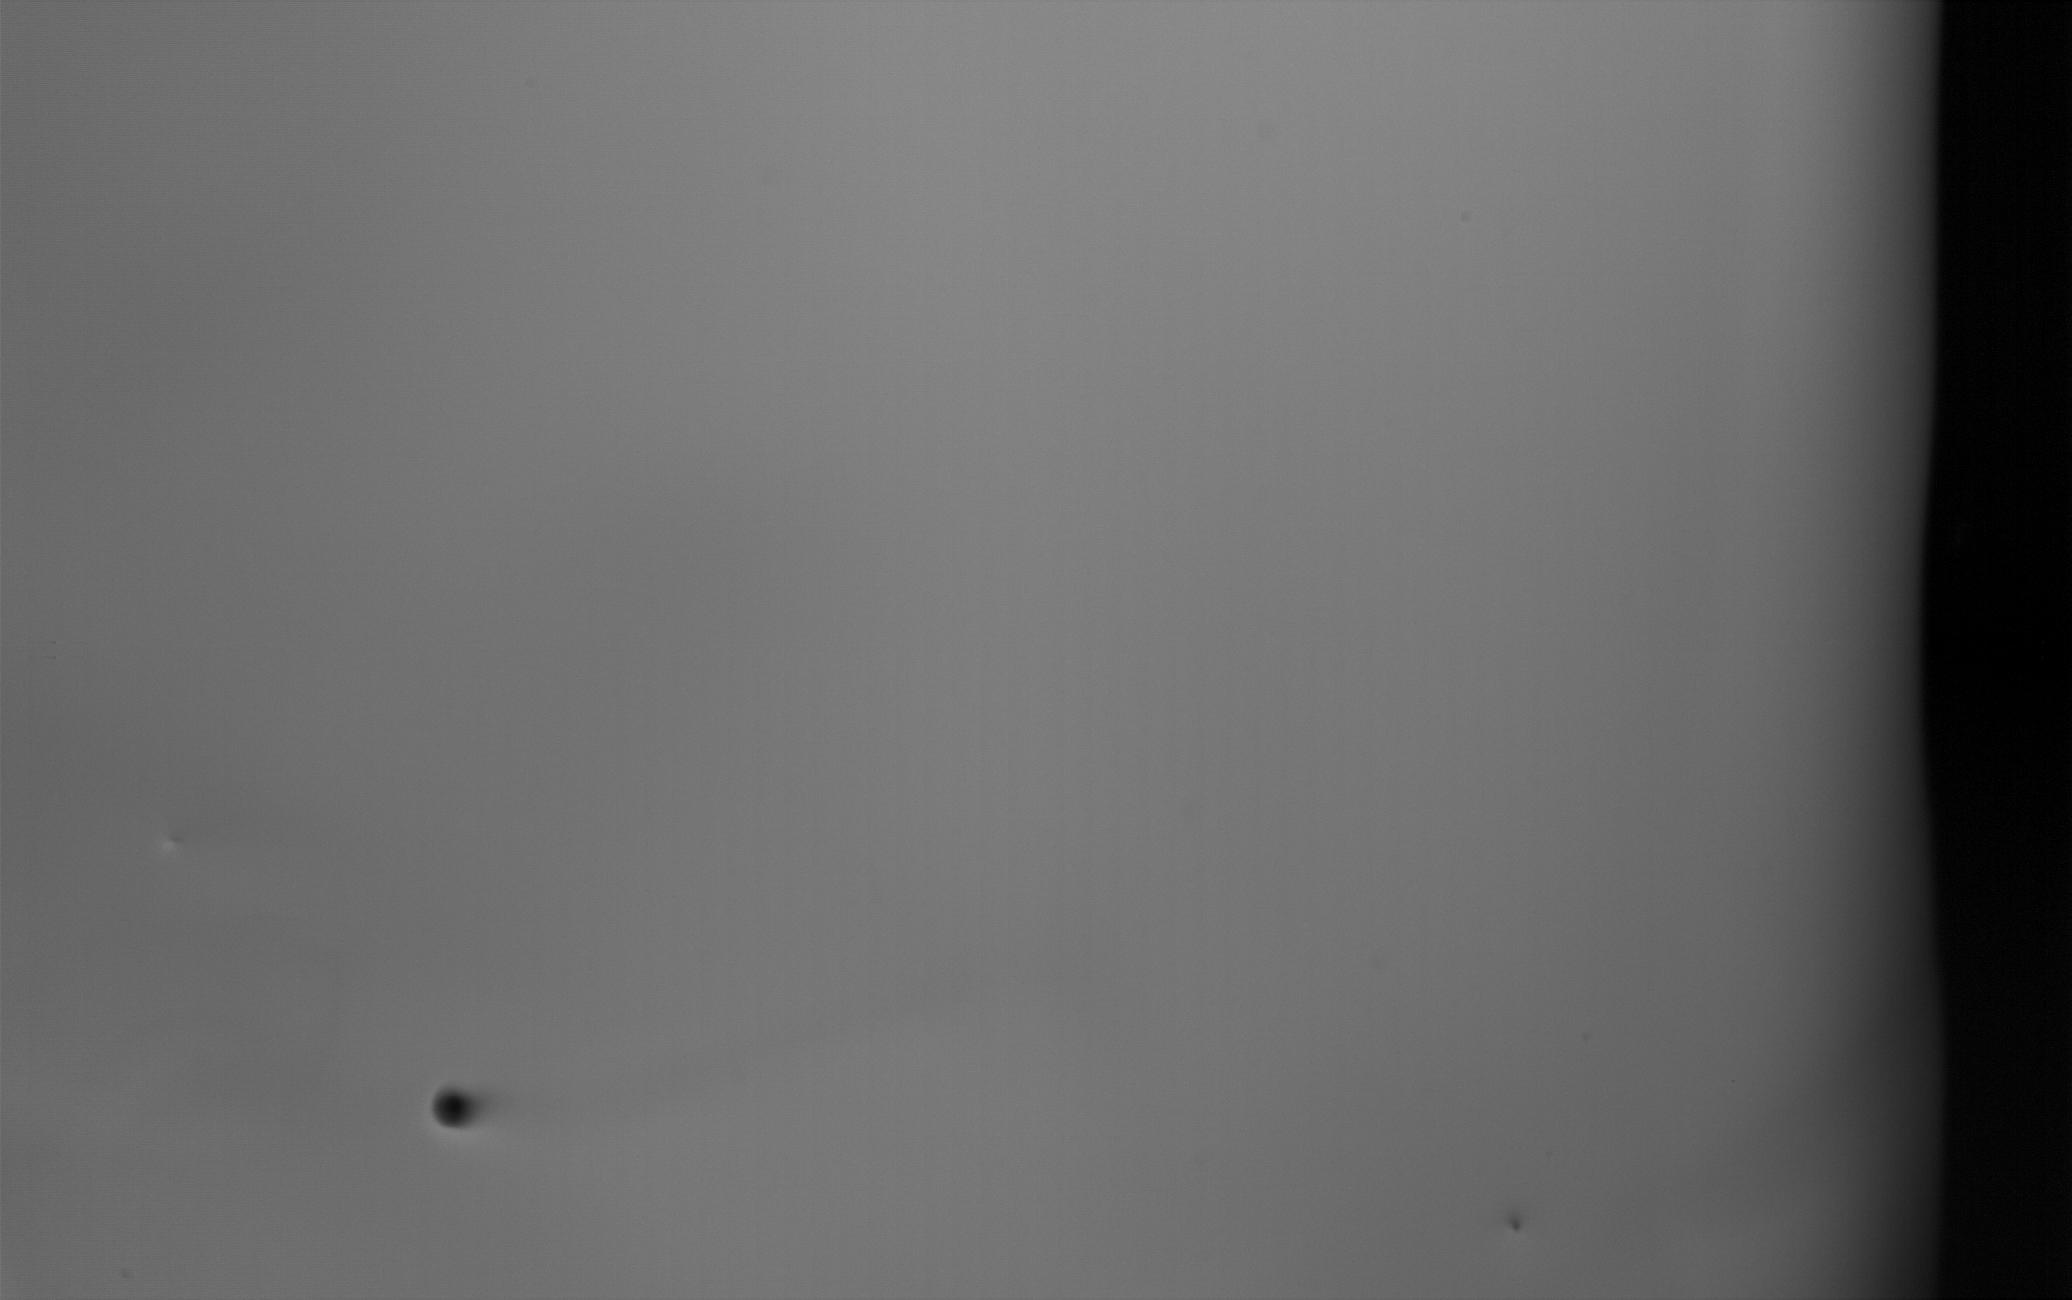ClassicalEvaporation: (433, 1084, 476, 1132), (1509, 1218, 1526, 1234)
